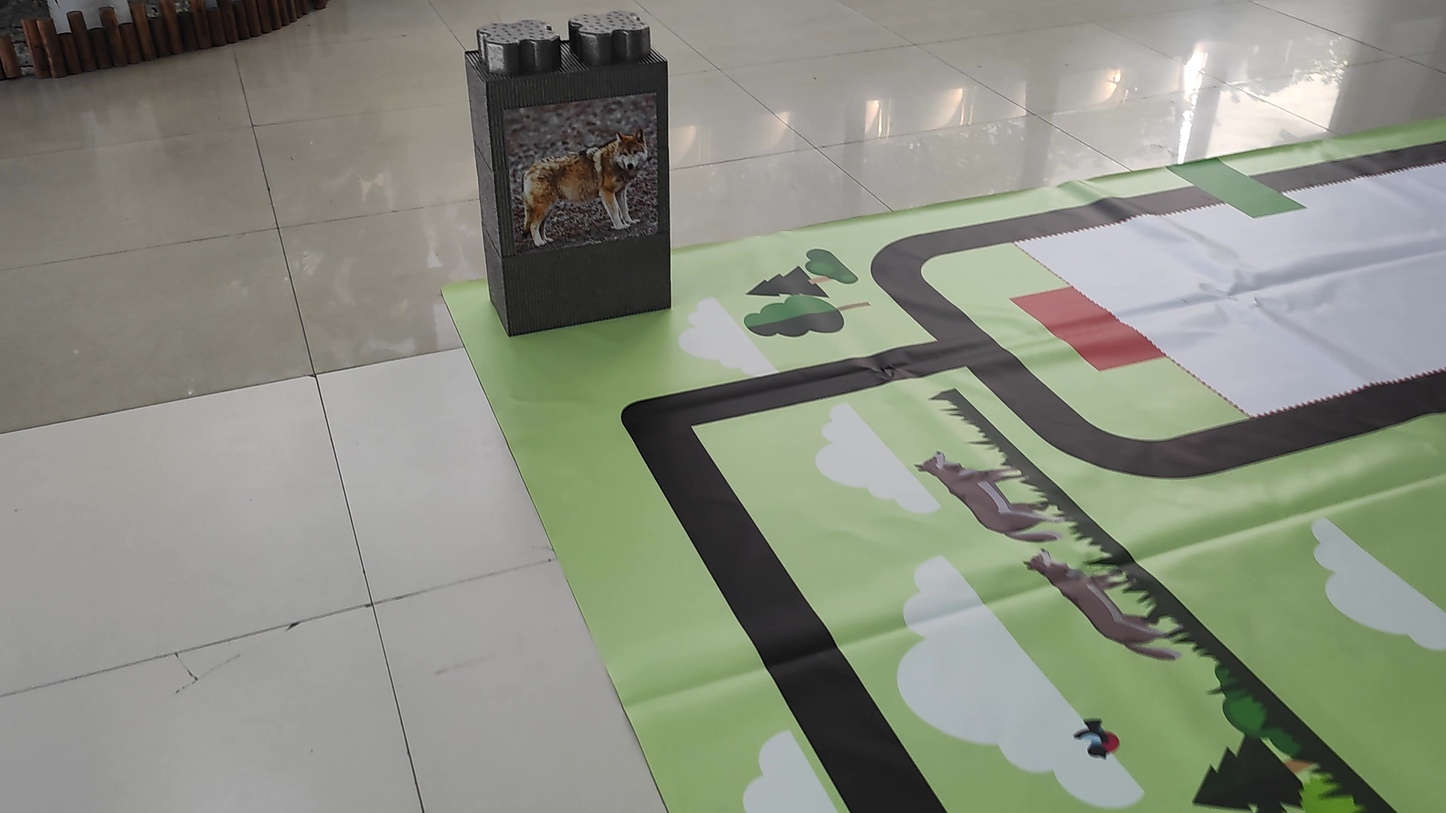wolf: (509, 100, 664, 254)
